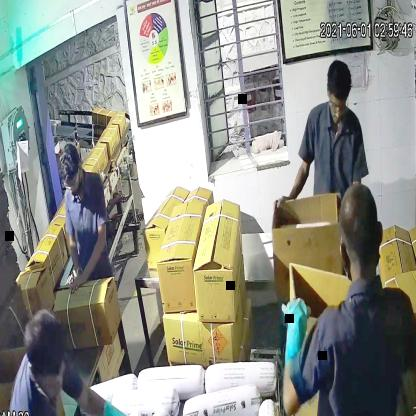goggles: (60, 172, 88, 198)
